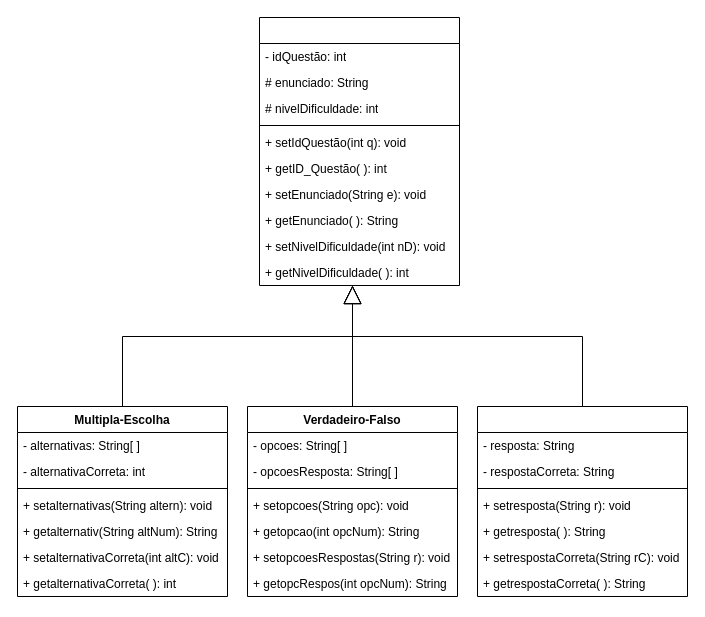
Image size: 705x617. Some labels were removed from this diagram. Each missing label, with the box of its shape:
Aberta: (476, 406, 688, 596)
Questao: (258, 16, 460, 286)
